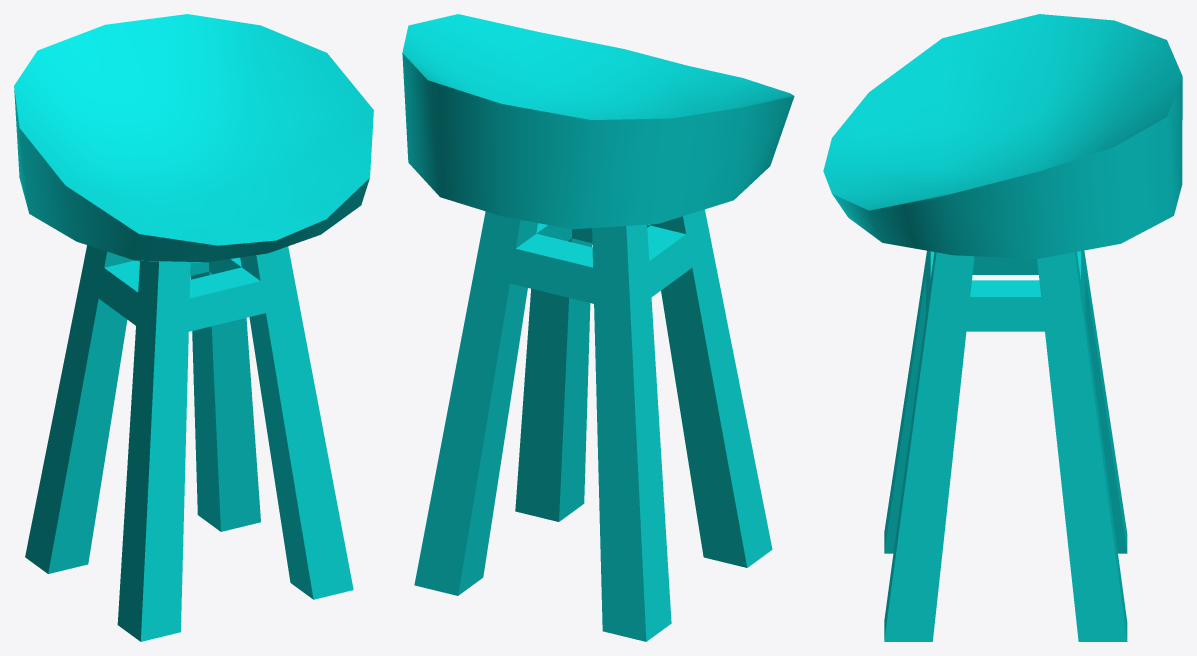
The model's file is KitchenChair.fbx.
3 views of the same model, side by side, from view 1: azimuth 30°, elevation 25°; view 2: azimuth 150°, elevation 25°; view 3: azimuth 270°, elevation 25° (orthographic). The views are drawn at different scales.
Visible parts, largest first — view 1: Chair; view 2: Chair; view 3: Chair.
Part boxes in pixels (bbox=[...]): Chair: bbox=[14, 14, 373, 641]; Chair: bbox=[402, 14, 794, 641]; Chair: bbox=[823, 14, 1182, 641].
Size of the model in its own units: 50 by 75.43 by 48.06.
